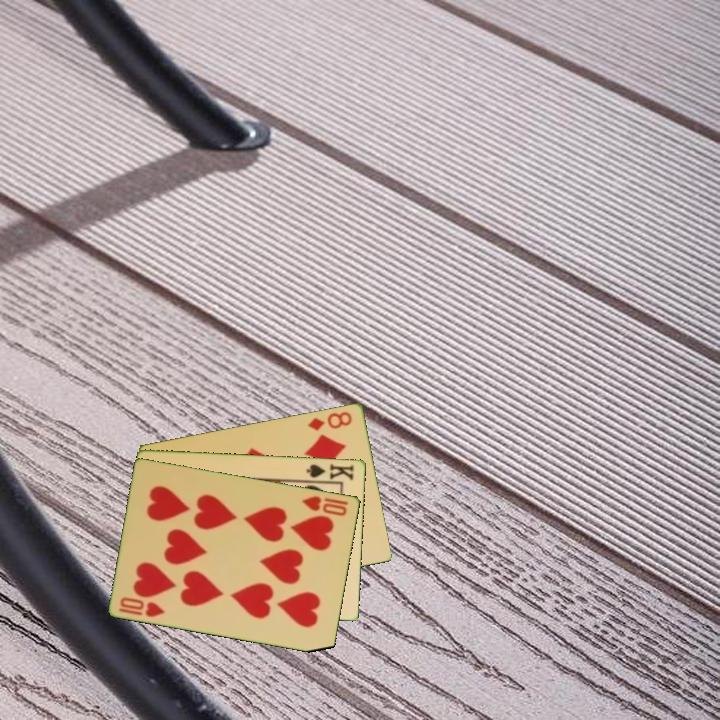10h: (116, 593, 168, 620), (299, 492, 350, 519)
8d: (305, 408, 355, 433)
Ks: (302, 460, 357, 484)
